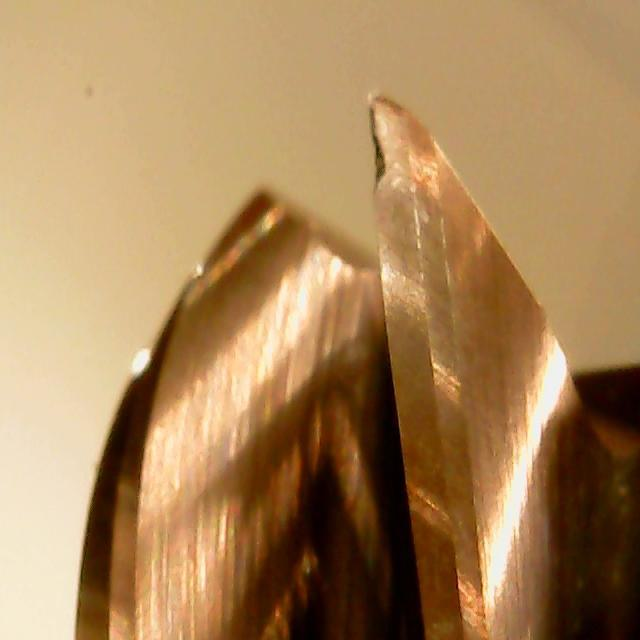Tool-wear-class-1: (356, 88, 463, 299)
